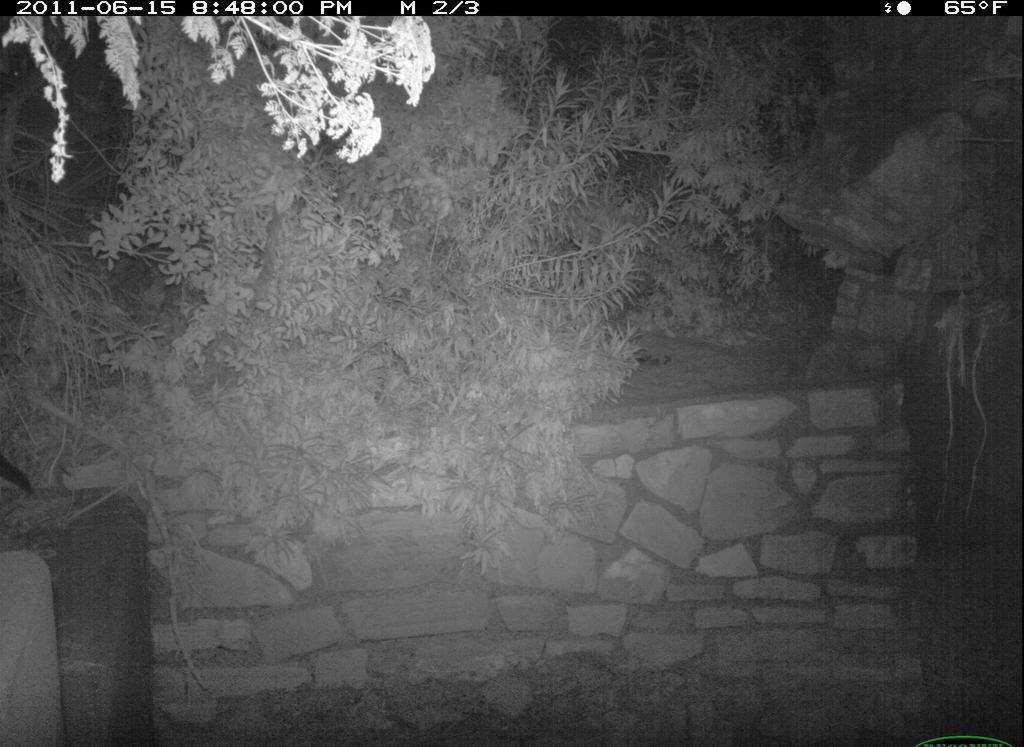cat: (1, 445, 45, 509)
